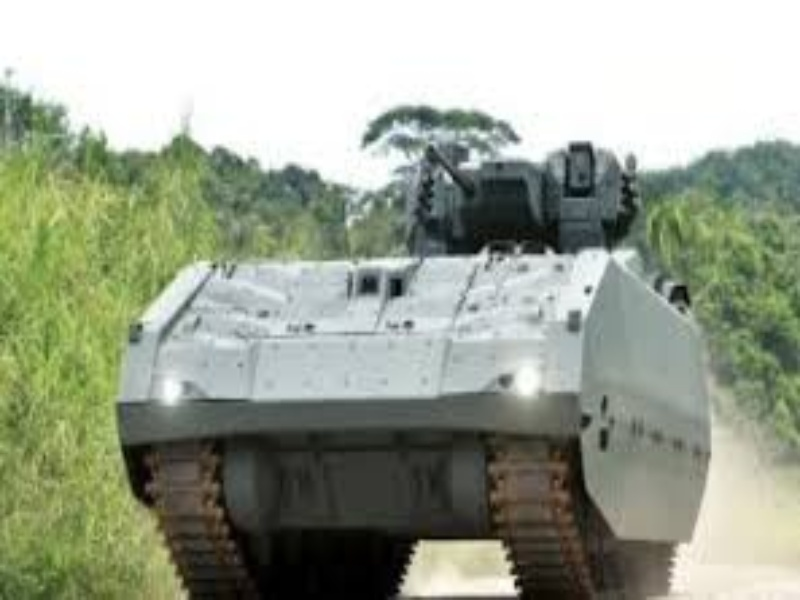tank: (115, 143, 718, 600)
